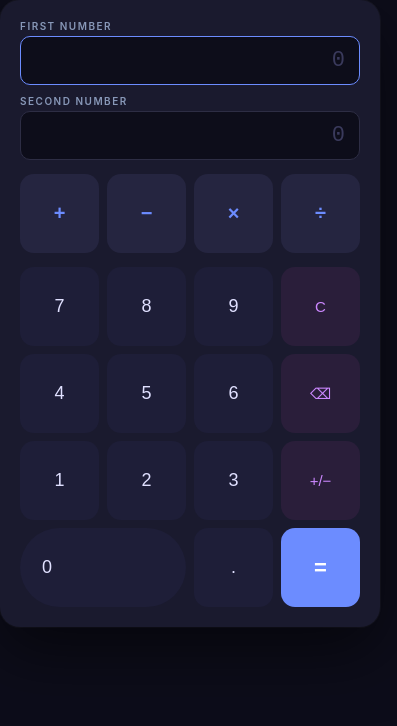
Test: Integration — multiplication › performs multiplication end-to-end and displays the result
Type "6" into the field with test id "first-input" at coordinates (190, 60), box left=20, top=36, right=360, bottom=85
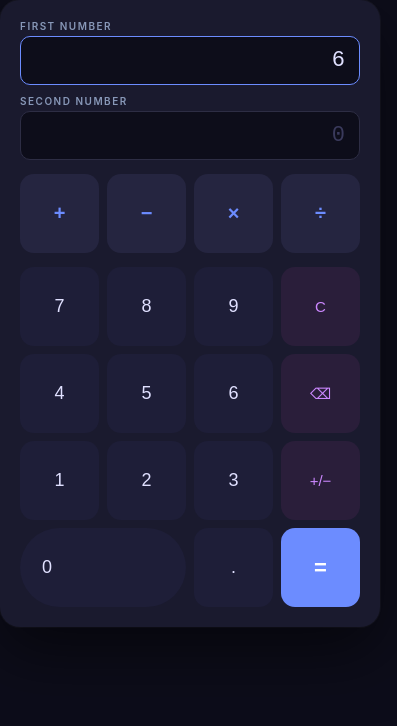
Click the button with test id "op-multiply" at coordinates (234, 214), box left=194, top=174, right=273, bottom=253
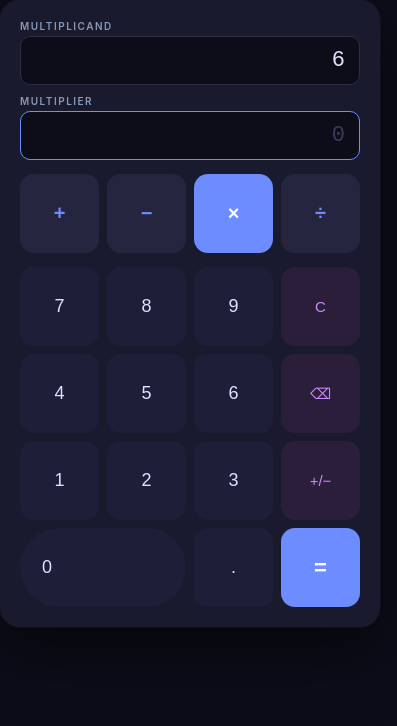
Type "7" into the field with test id "second-input" at coordinates (190, 136), box left=20, top=111, right=360, bottom=160
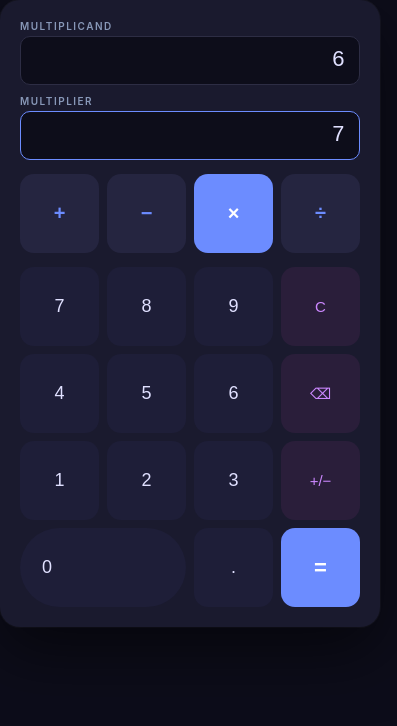
Click the button with test id "equals-btn" at coordinates (320, 568), box left=281, top=528, right=360, bottom=607
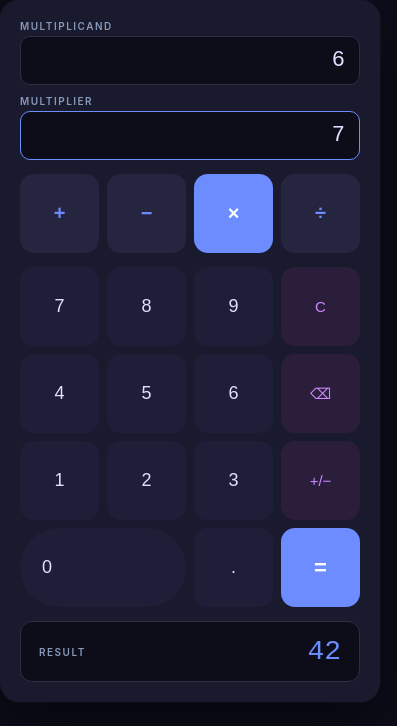
Check: the text with test id "result-value" reads "42", box left=307, top=636, right=341, bottom=667
